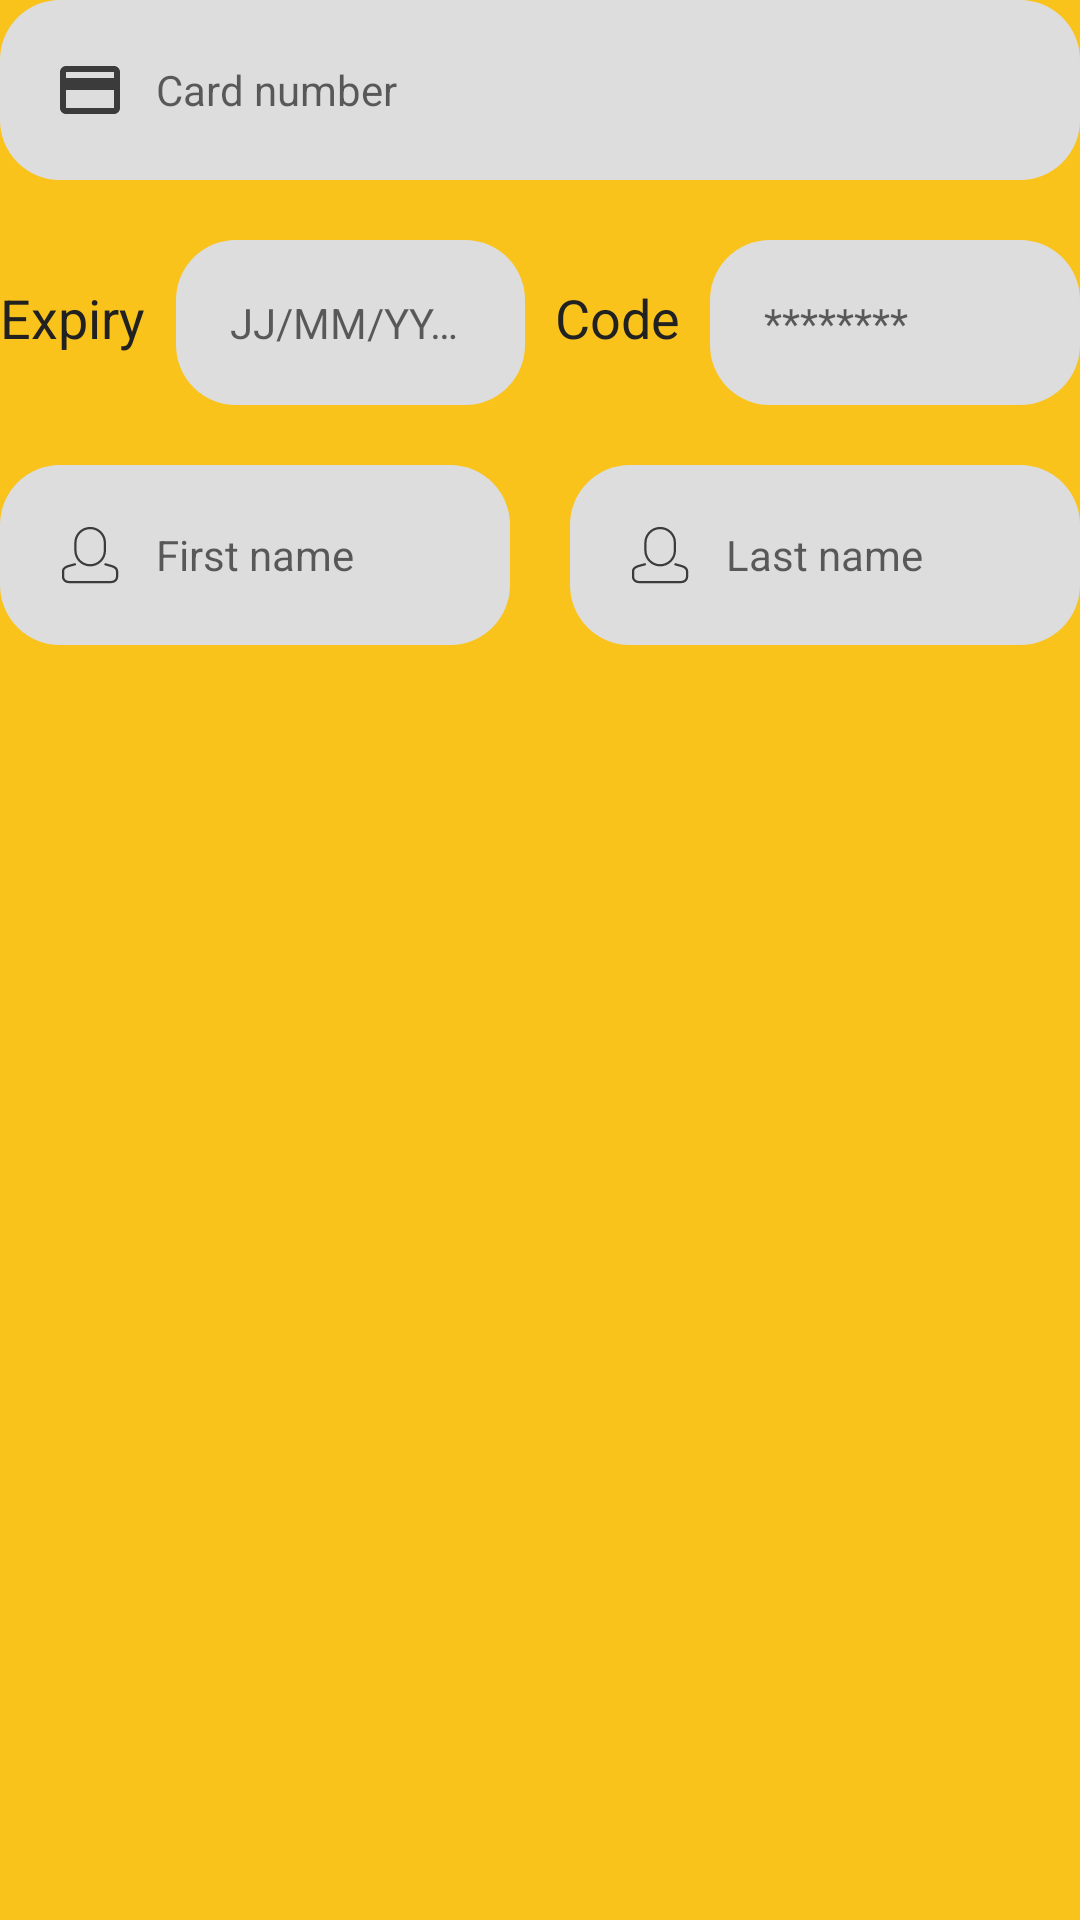

Locate icon controls on the screen. Image size 1080w x 1920h, boxes as (x1, y1, x2, y2).
profil: (62, 527, 119, 584), (632, 527, 689, 584)
